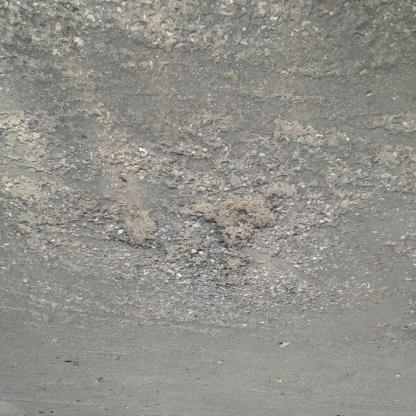pothole: (196, 198, 284, 251), (123, 211, 163, 249)
